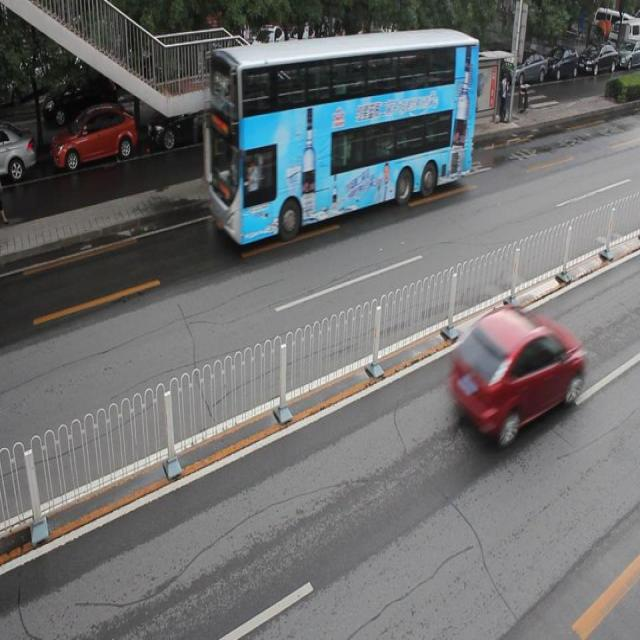car: (444, 300, 585, 448), (49, 105, 136, 172), (144, 93, 236, 148), (314, 62, 390, 121), (296, 88, 355, 154), (242, 72, 308, 130), (1, 127, 35, 181)
van: (209, 25, 479, 248)
